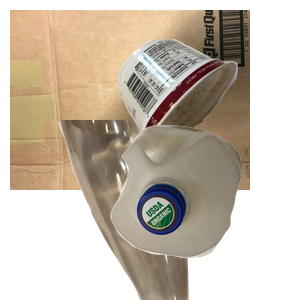cardboard: (10, 10, 250, 190)
glass: (56, 120, 241, 300)
plastic: (108, 123, 300, 300)
trash: (116, 36, 300, 187)
